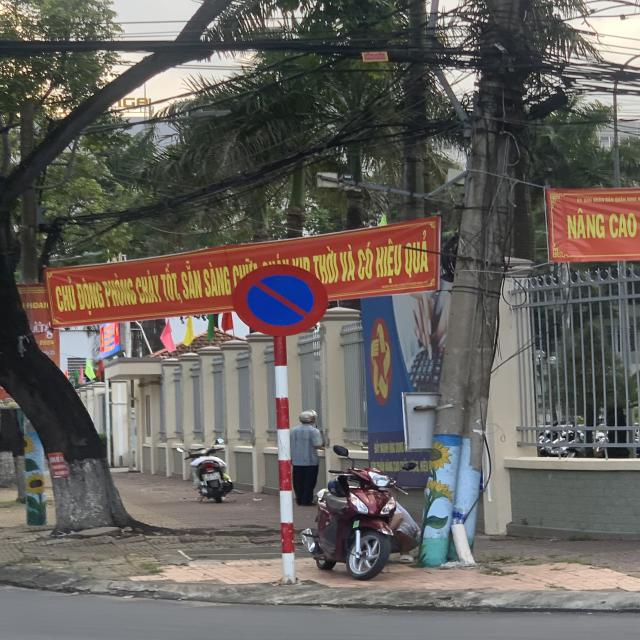Cam_Dau_Xe: (234, 265, 326, 335)
